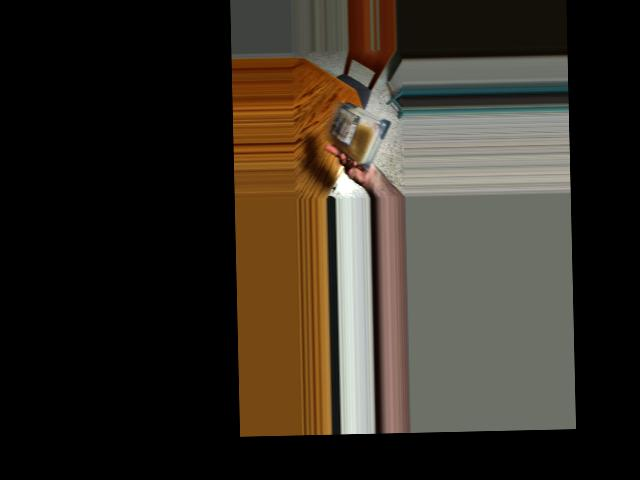cheese: (328, 103, 379, 164)
